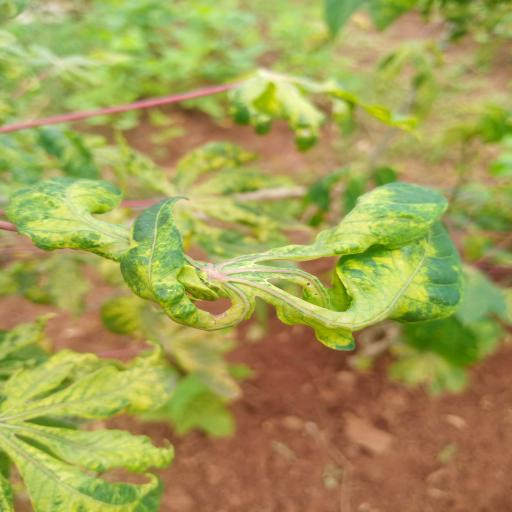Cassava_Mosaic: (5, 176, 478, 352), (0, 325, 185, 511), (224, 64, 415, 154)
